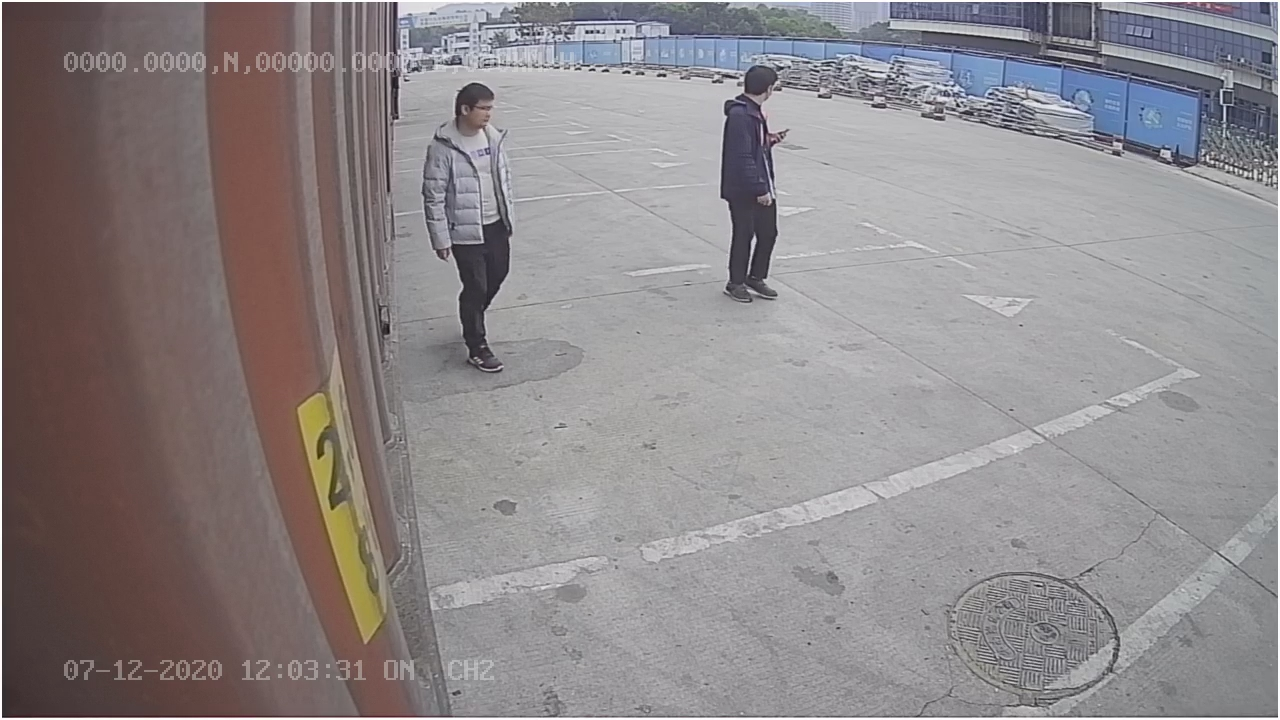person: (421, 80, 532, 372), (709, 57, 791, 306)
